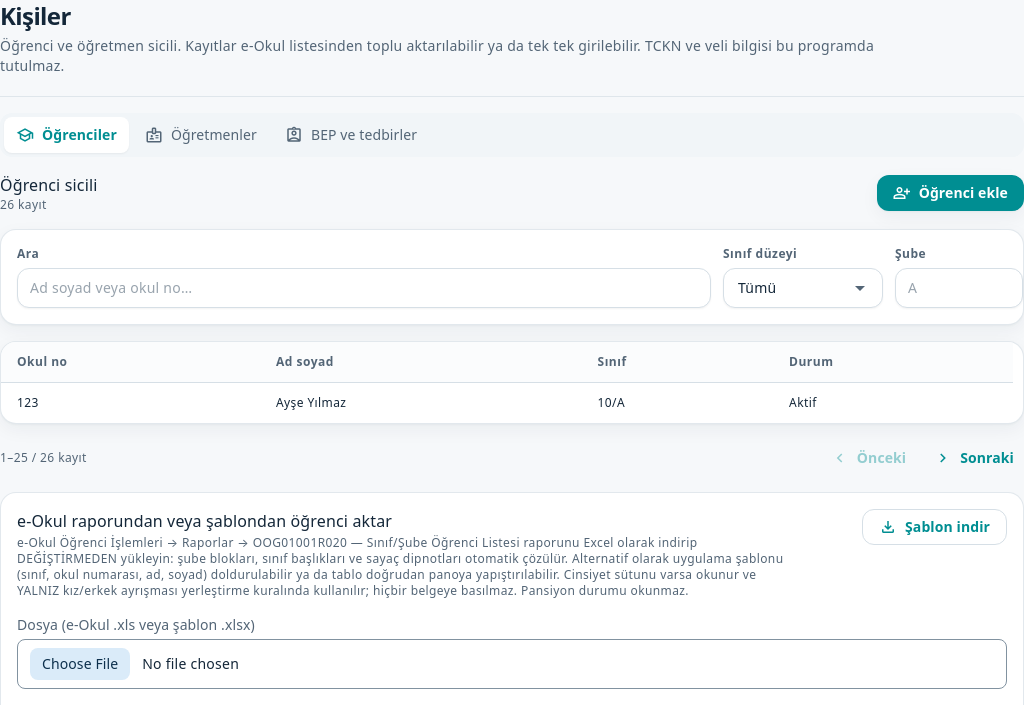
it: KisilerPage — öğrenci ekleme/düzenleme/silme › son sayfadaki tek kayıt silinince önceki sayfaya düşer (boş sayfada kilitlenmez)
Expected: the text "Ayşe Yılmaz" is shown, [260,382,582,423]
Step 1. Click the button "Sonraki" → (974, 458), box [924,440,1023,476]
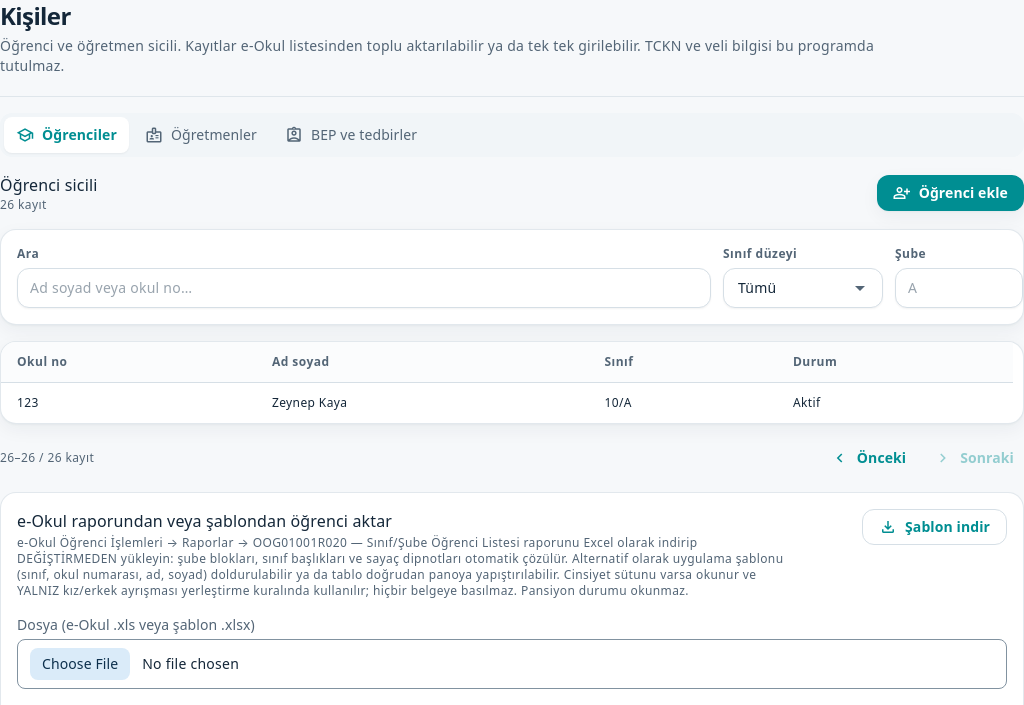
Result: the text "Zeynep Kaya" is shown at [256,382,588,423]
Step 2. Click the button with aria-label "Zeynep Kaya kaydını düzenle" → (310, 402), box [1,382,1013,423]
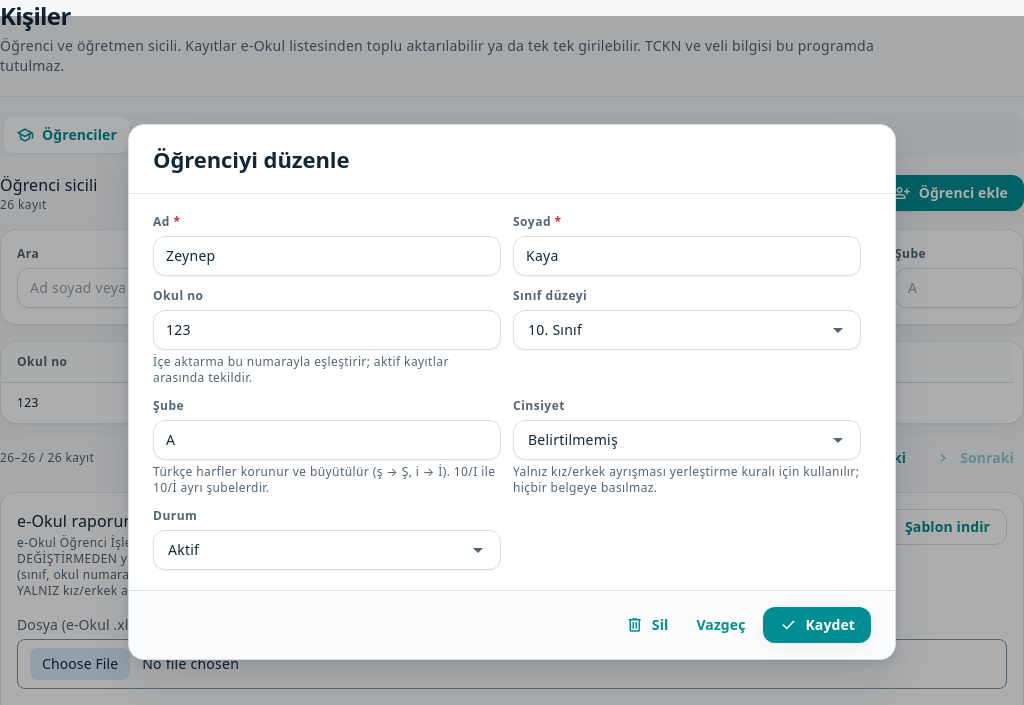
Step 3. Click the button "Sil" → (647, 625), box [616,607,678,643]
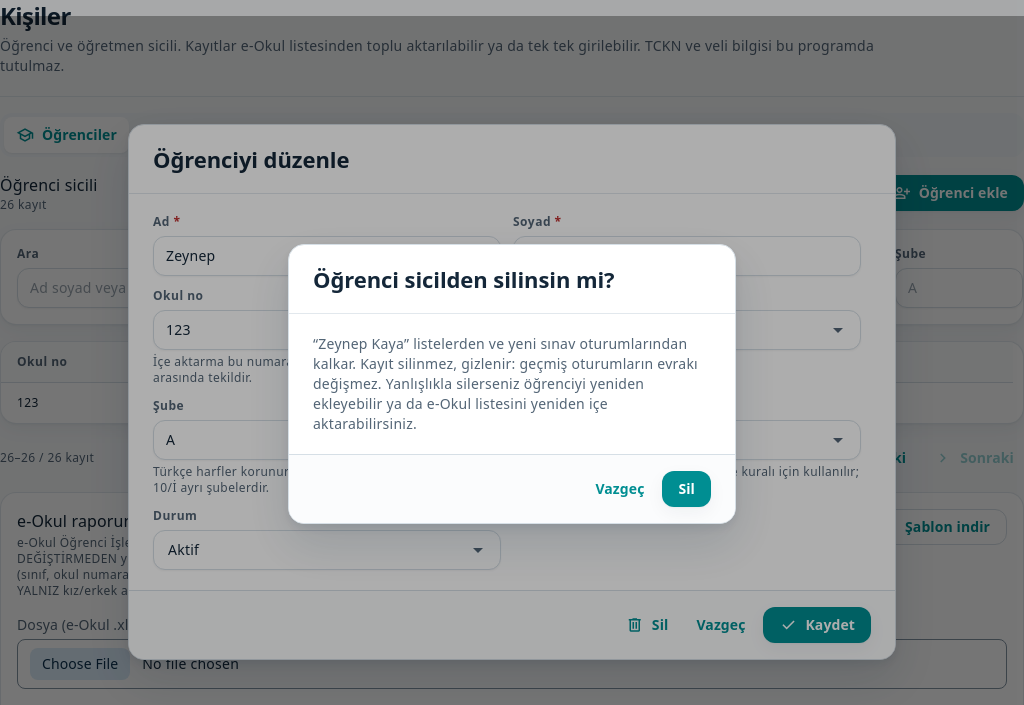
Step 4. Click the button "Sil" → (687, 489), box [662,471,711,507]
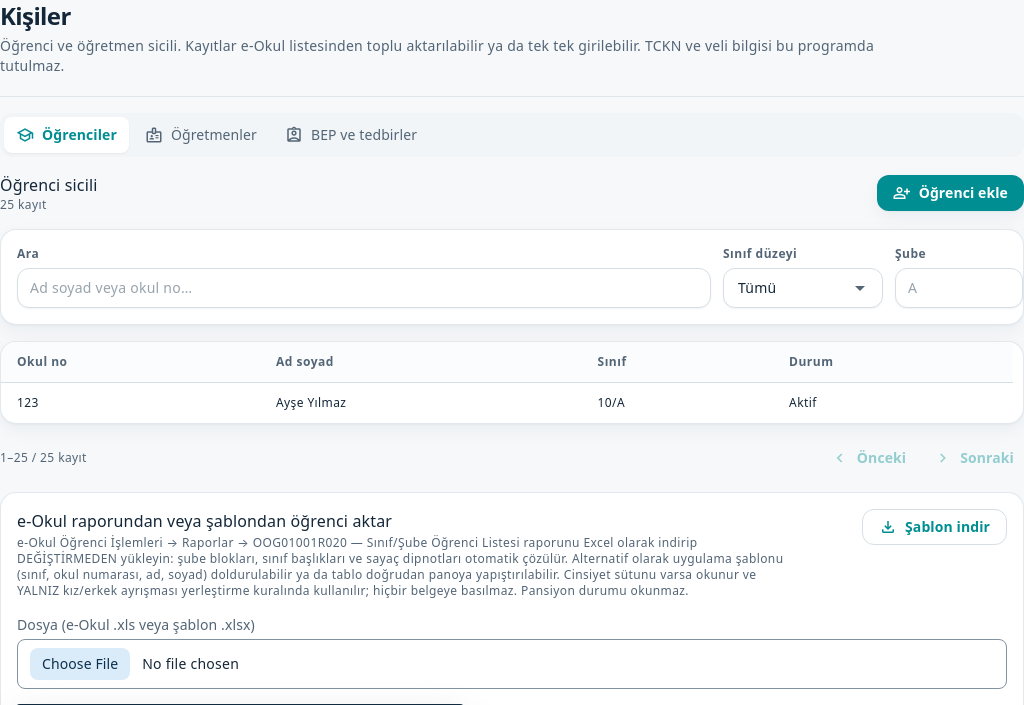
Result: the text "Ayşe Yılmaz" is shown at [260,382,582,423]
Result: the button "Önceki" is disabled at [821,440,916,476]
